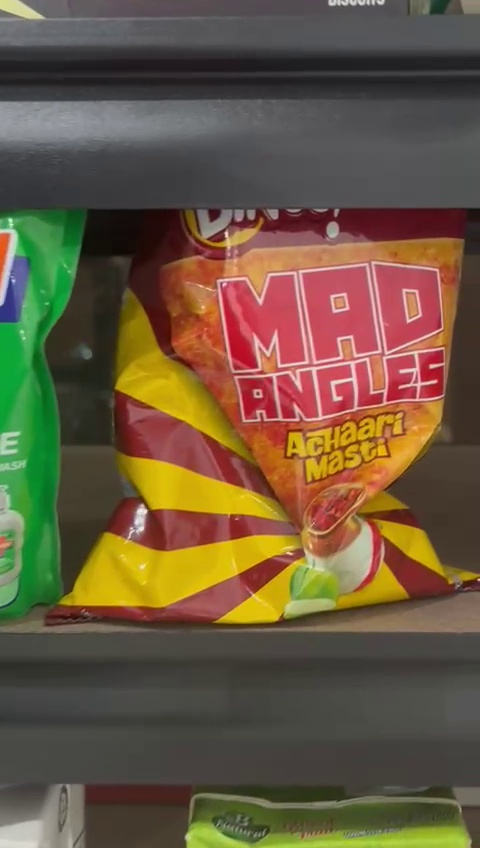Bingo Mad Angles: (96, 211, 480, 621)
